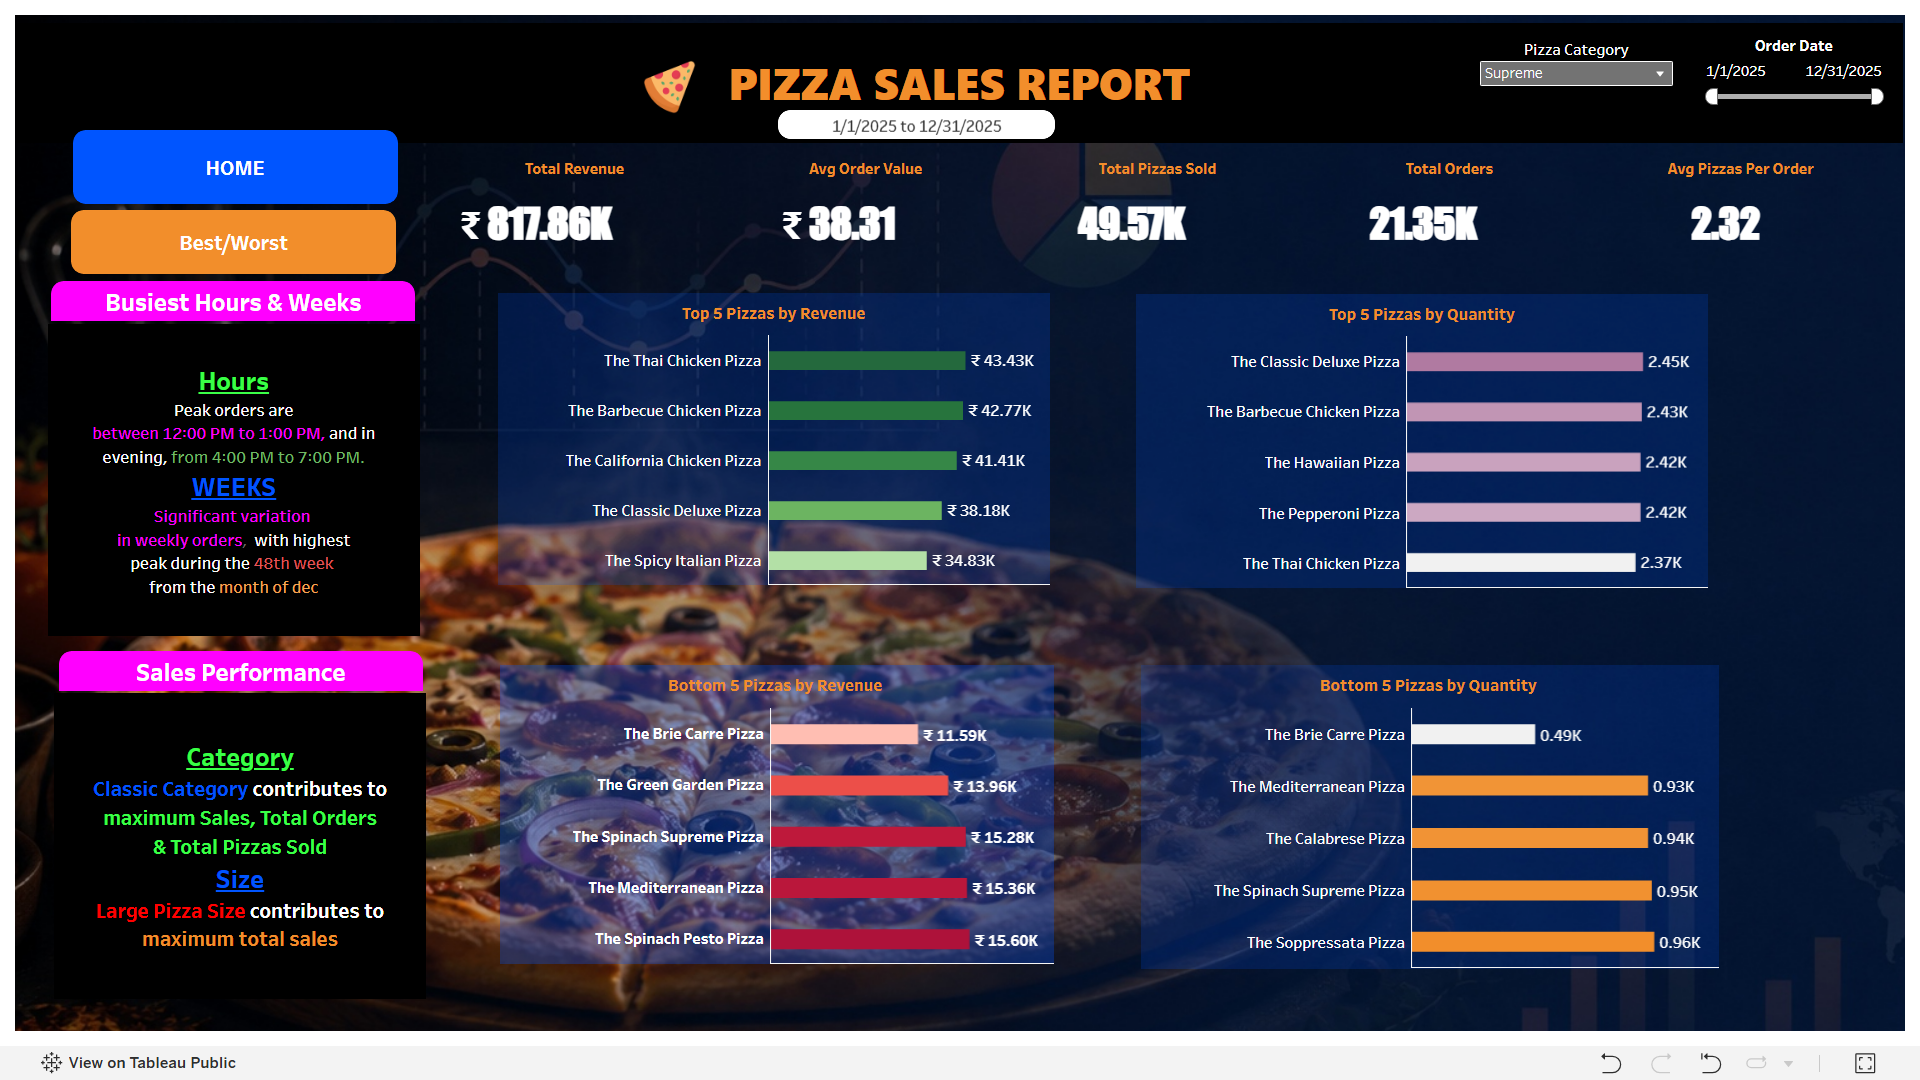

The dashboard page shown, as its layout file describes it:
{"tool":"tableau","page":{"name":"Best/Wrost Seller","canvas":[1000,1000],"units":"permille","ordinal":0},"visuals":[{"type":"image","param":"C:/Users/USER/Downloads/ChatGPT Image Aug 15, 2026, 11_23_33 AM.png","box":[4.8,9.4,990.3,981.2]},{"type":"text","box":[8.4,21.2,982.5,115.2]},{"type":"filter","title":"Date Range","param":"[federated.1lx9tgo19k41uo19w6wfd1uyf0b8].[none:order_date:qk]","box":[885.9,31.7,96.6,90.5]},{"type":"filter","title":"Date Range","param":"[federated.1lx9tgo19k41uo19w6wfd1uyf0b8].[none:pizza_category:nk]","box":[770.1,35.2,101.4,82.3]},{"type":"image","param":"C:/Users/USER/Downloads/Pizza Sales Images/pizza-slice.png","box":[334.9,57.6,33.2,51.7]},{"type":"worksheet","title":"Date Range","mark":"Automatic","box":[404.9,104.6,144.2,28.2]},{"type":"dashboard-object","box":[38,124.6,169,70.5]},{"type":"worksheet","title":"KPI Banner","mark":"Automatic","box":[223.3,148.1,759.2,110.5]},{"type":"dashboard-object","box":[37.4,200.9,169,61.1]},{"type":"text","box":[26.6,269.1,189.5,37.6]},{"type":"worksheet","title":"Top 5 Pizzas by Revenue","mark":"Automatic","rows":["pizza_name"],"cols":["Calculation_0489316859269120"],"box":[258.9,279.7,287.9,279.7]},{"type":"worksheet","title":"Top 5 Pizzas by Quantity","mark":"Automatic","rows":["pizza_name"],"cols":["Calculation_0489316860510211"],"box":[592,280.9,297.5,280.9]},{"type":"text","box":[24.7,309.1,194.3,299.7]},{"type":"text","box":[30.8,622.8,189.5,37.6]},{"type":"worksheet","title":"Bottom 5 Pizzas by Revenue ","mark":"Automatic","rows":["pizza_name"],"cols":["Calculation_0489316859269120"],"box":[260.7,635.7,287.9,285.6]},{"type":"worksheet","title":"Bottom 5 Pizzas by Quantity ","mark":"Automatic","rows":["pizza_name"],"cols":["Calculation_0489316860510211"],"box":[594.5,635.7,300.5,290.2]},{"type":"text","box":[27.8,661.6,194.3,292.6]}]}

Visuals, with their boxes on the dashboard's canvas, which has no fixed pixel size, in thousandths of its width and height (x1, y1, x2, y2). These are canvas units, not pixel positions in the 1920x1080 screenshot, which may show the page scaled, cropped or inside an application window:
image: detection(5, 9, 995, 991)
text: detection(8, 21, 991, 136)
"Date Range" filter: detection(886, 32, 982, 122)
"Date Range" filter: detection(770, 35, 872, 118)
image: detection(335, 58, 368, 109)
"Date Range" worksheet: detection(405, 105, 549, 133)
dashboard-object: detection(38, 125, 207, 195)
"KPI Banner" worksheet: detection(223, 148, 982, 259)
dashboard-object: detection(37, 201, 206, 262)
text: detection(27, 269, 216, 307)
"Top 5 Pizzas by Revenue" worksheet: detection(259, 280, 547, 559)
"Top 5 Pizzas by Quantity" worksheet: detection(592, 281, 890, 562)
text: detection(25, 309, 219, 609)
text: detection(31, 623, 220, 660)
"Bottom 5 Pizzas by Revenue " worksheet: detection(261, 636, 549, 921)
"Bottom 5 Pizzas by Quantity " worksheet: detection(594, 636, 895, 926)
text: detection(28, 662, 222, 954)
